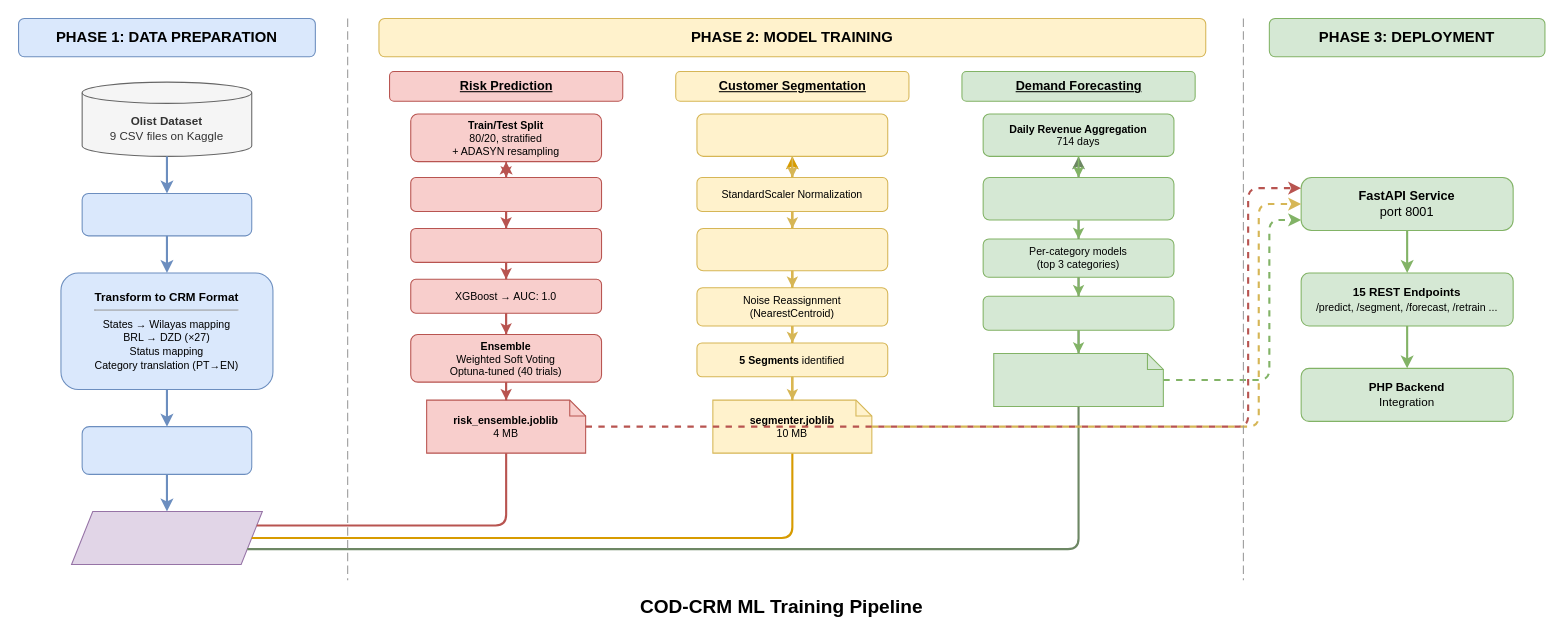
Image size: 1563x641. Some labels were removed from this diagram. The centre of each missing label's shape, as x and y in pixels:
99,441 prepared orders: the point at 166,537
CatBoost → AUC: 1.0: the point at 506,193
Feature Engineering 31 features: the point at 166,450
forecaster_models.joblib 278 KB: the point at 1078,379
HDBSCAN Clustering min_cluster_size=50: the point at 792,249
LightGBM + Algerian Calendar 21 covariates: the point at 1078,198
LightGBM → AUC: 1.0: the point at 506,244
Load & Merge Datasets: the point at 166,214
MAE: 318,741 DZD: the point at 1078,312
RFM Computation per customer: the point at 792,134
